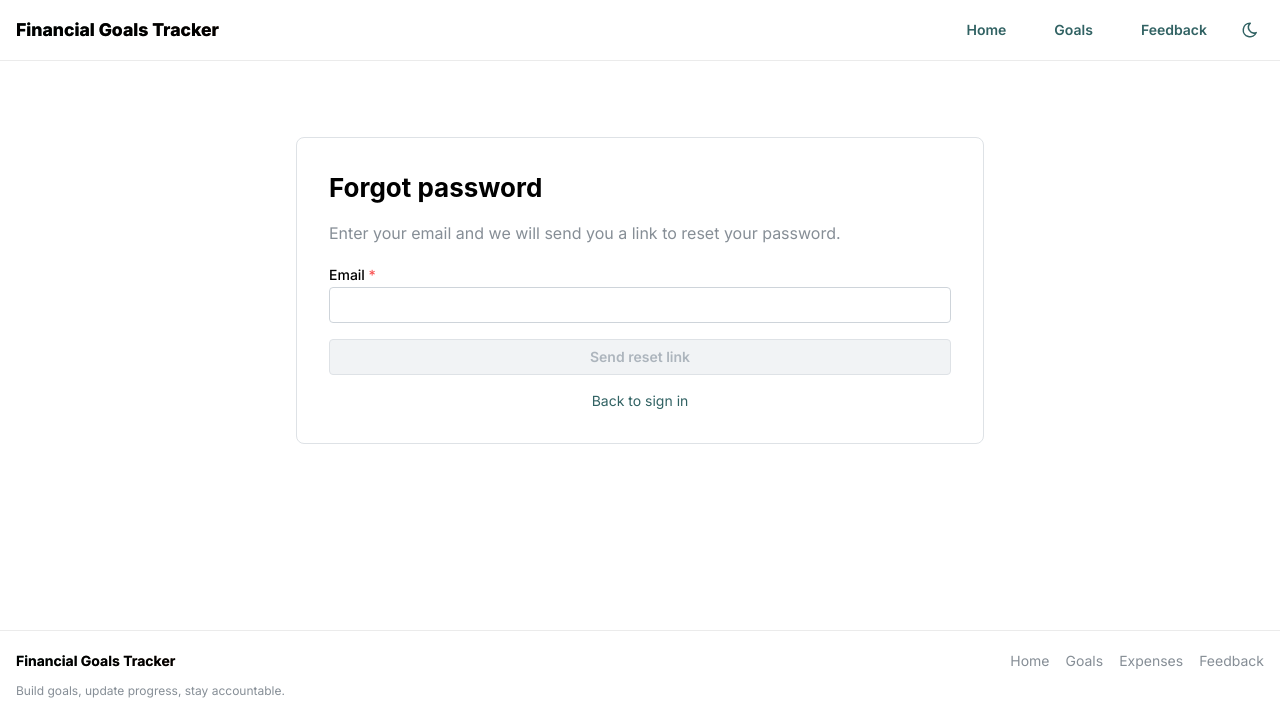
Test: Forgot Password Page › shows email validation error for missing @ symbol
The image size is (1280, 720).
Type "notanemail" into the field labelled "Email *" at (640, 305), box [329,287,951,323]
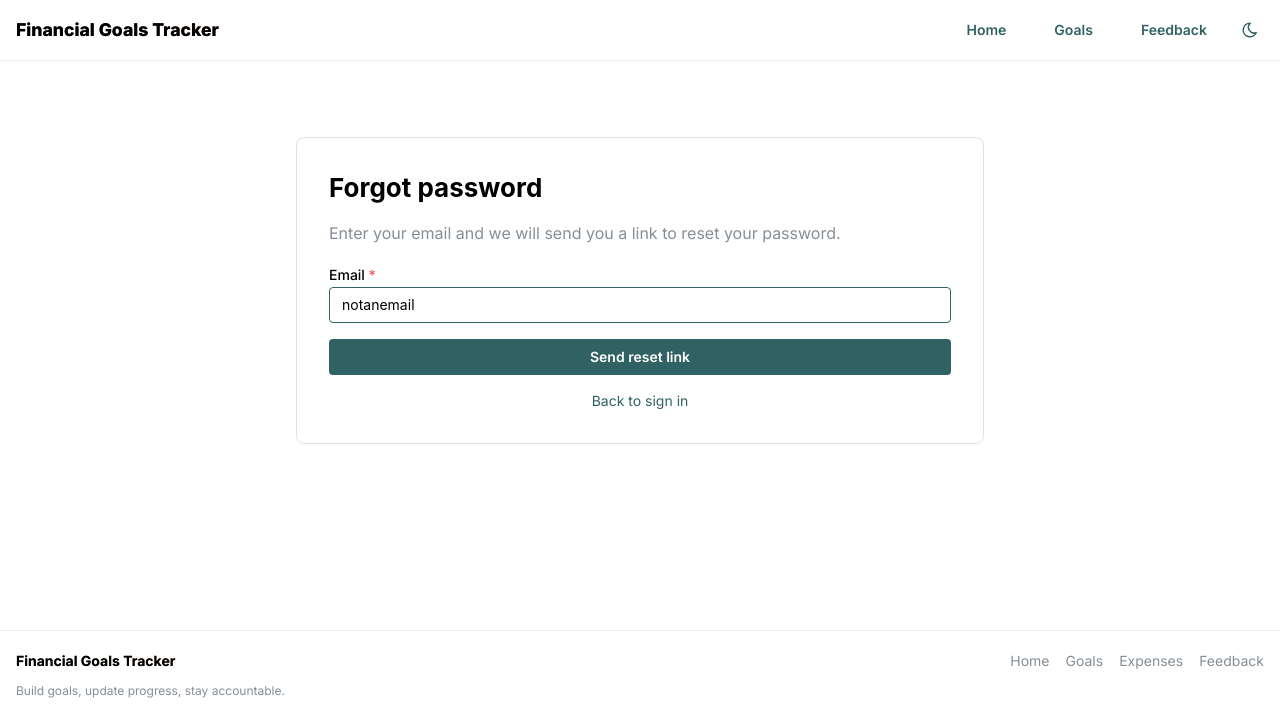
Click the button "Send reset link" at (640, 357), box [329,339,951,375]
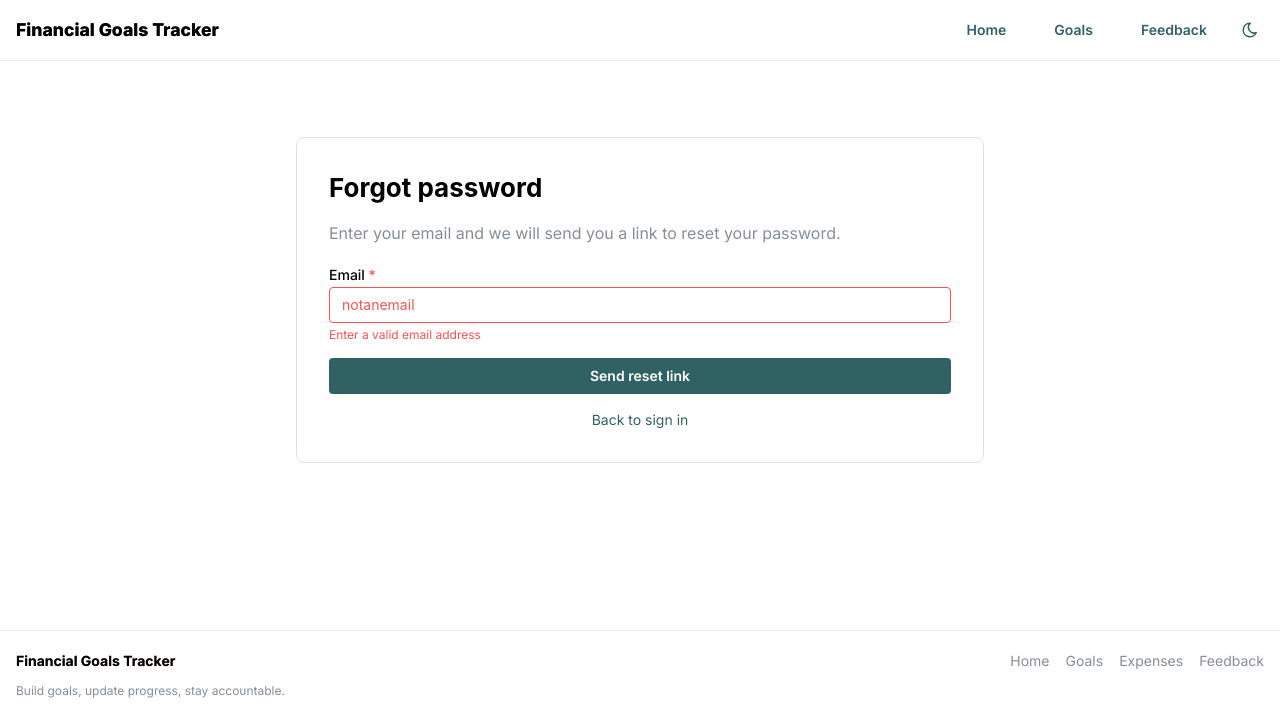
Expected: the text "Enter a valid email address" is shown, [329,327,481,342]
